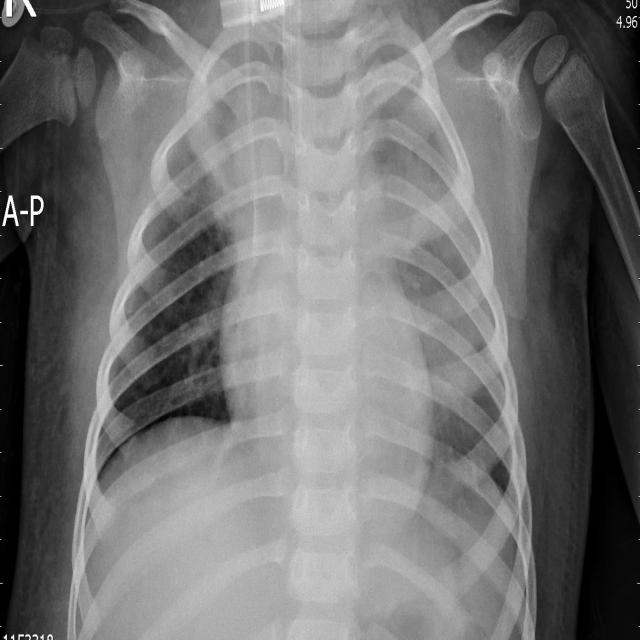low-pneumonia: (172, 53, 248, 226), (422, 306, 491, 437), (383, 162, 452, 279)
